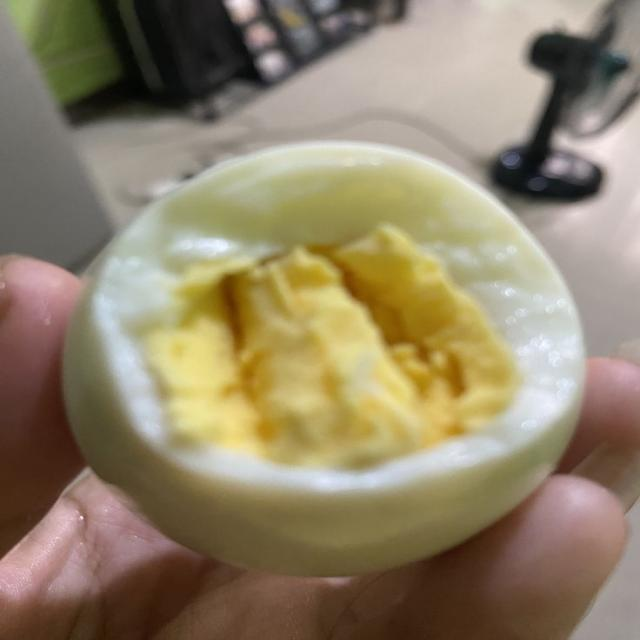egg boiled: (65, 143, 583, 575)
